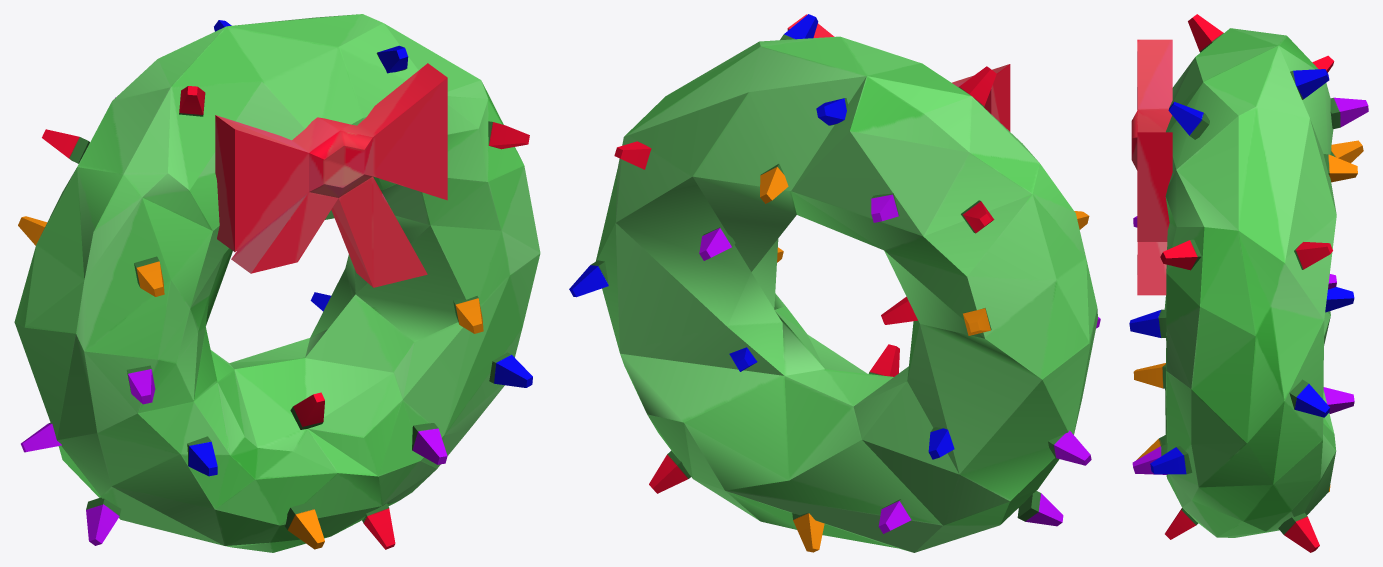
File: Wreath.fbx
3 views of the same model, side by side, from view 1: azimuth 30°, elevation 25°; view 2: azimuth 150°, elevation 25°; view 3: azimuth 270°, elevation 25° (orthographic). The views are drawn at different scales.
Visible parts, largest first — view 1: WreathMesh, Bow, WreathLight_010, WreathLight_001, WreathLight_008, WreathLight_012, WreathLight_005, WreathLight_007, WreathLight_009, WreathLight_002, WreathLight_022, WreathLight_004 (+5 smaller); view 2: WreathMesh, Bow, WreathLight_001, WreathLight_024, WreathLight_014, WreathLight_026, WreathLight_015, WreathLight_011, WreathLight_017, WreathLight_028, WreathLight_019, WreathLight_007 (+3 smaller); view 3: WreathMesh, Bow, WreathLight_024, WreathLight_026, WreathLight_021, WreathLight_013, WreathLight_012, WreathLight_003, WreathLight_005, WreathLight_025, WreathLight_011, WreathLight_016 (+7 smaller).
Boxes of the visible parts, x1,y1,x2,y2 form: WreathMesh: (14,14,540,552); Bow: (215,63,447,287); WreathLight_010: (285,502,324,549); WreathLight_001: (86,497,121,545); WreathLight_008: (412,423,447,464); WreathLight_012: (489,352,532,387); WreathLight_005: (187,436,217,476); WreathLight_007: (290,392,324,429); WreathLight_009: (362,503,395,549); WreathLight_002: (134,256,164,296); WreathLight_022: (42,129,89,163); WreathLight_004: (453,296,483,333); WreathMesh: (596,36,1097,552); Bow: (787,14,1010,131); WreathLight_001: (1017,491,1063,526); WreathLight_024: (649,450,690,493); WreathLight_014: (1048,430,1091,465); WreathLight_026: (569,260,608,297); WreathLight_015: (792,512,824,552); WreathLight_011: (958,66,996,106); WreathLight_017: (760,164,788,203); WreathLight_028: (699,227,735,260); WreathLight_019: (878,499,912,533); WreathLight_007: (868,344,899,376); WreathMesh: (1164,28,1336,537); Bow: (1131,39,1172,295); WreathLight_024: (1278,512,1319,552); WreathLight_026: (1289,379,1329,417); WreathLight_021: (1330,97,1368,129); WreathLight_013: (1168,101,1209,139); WreathLight_012: (1150,446,1192,474); WreathLight_003: (1160,239,1201,270); WreathLight_005: (1129,309,1166,337); WreathLight_025: (1290,69,1329,99); WreathLight_011: (1188,14,1223,52); WreathLight_016: (1294,242,1332,269).
Bounding box in the file's own units: 14.72 × 14.18 × 6.79.
Materials: 1 (1 with a texture image).
